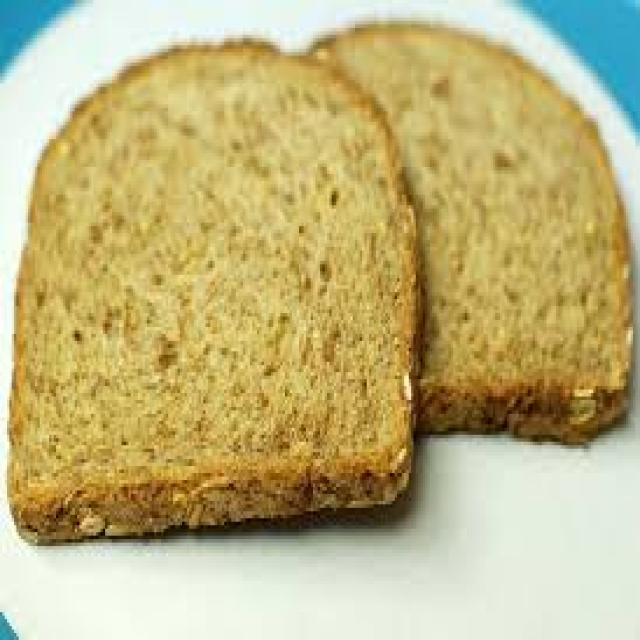Bread: (9, 43, 415, 541), (318, 26, 634, 440)
